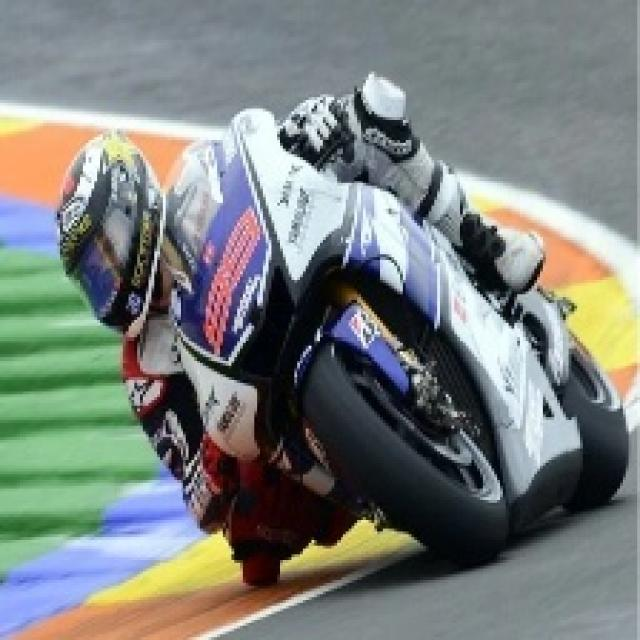motorace: (44, 55, 640, 514)
